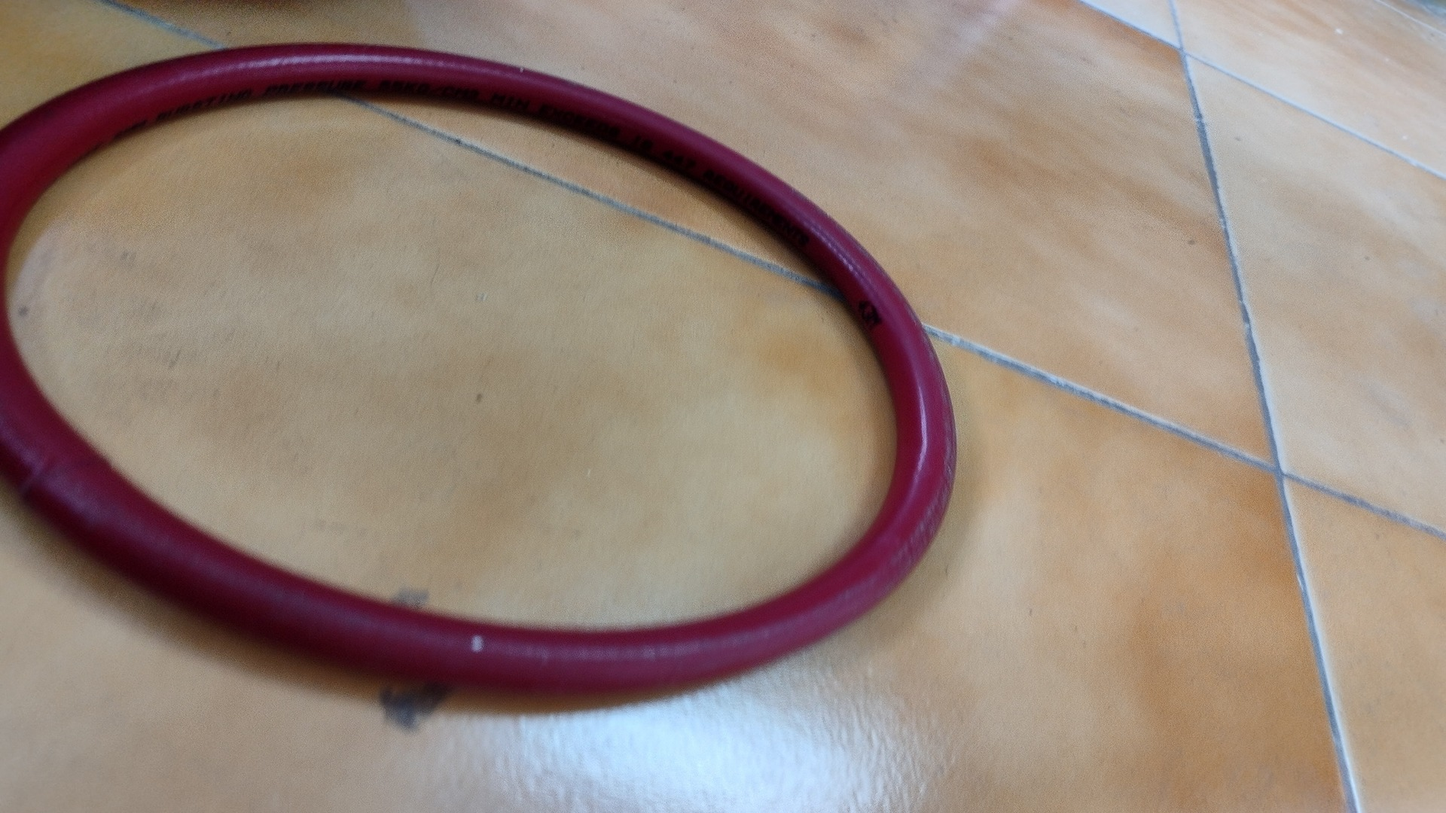Red ring: (1, 46, 946, 688)
